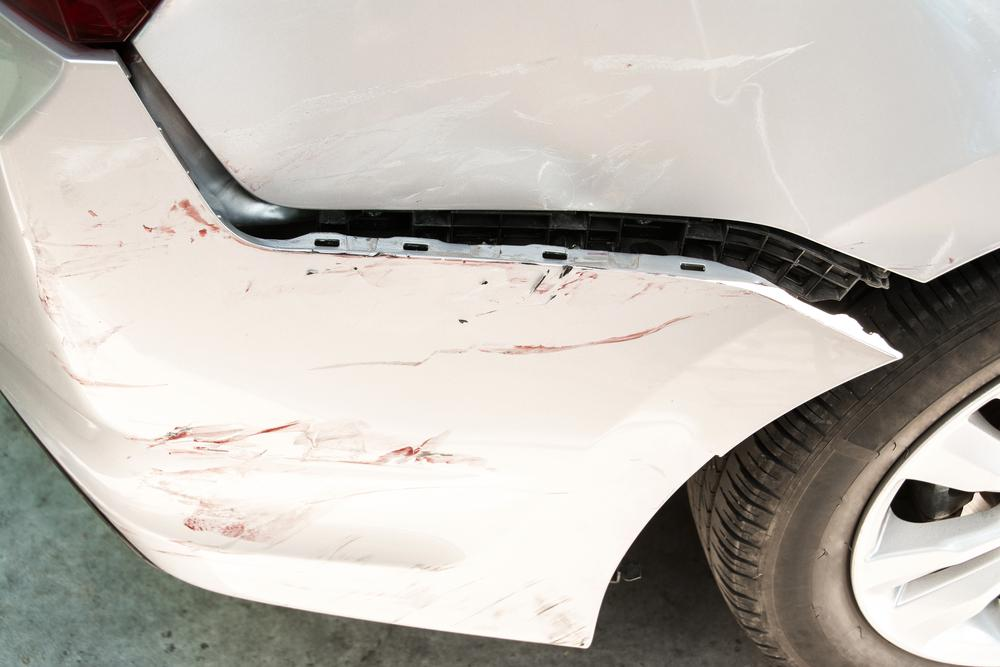dent: (234, 102, 691, 217)
scratch: (27, 198, 710, 635)
